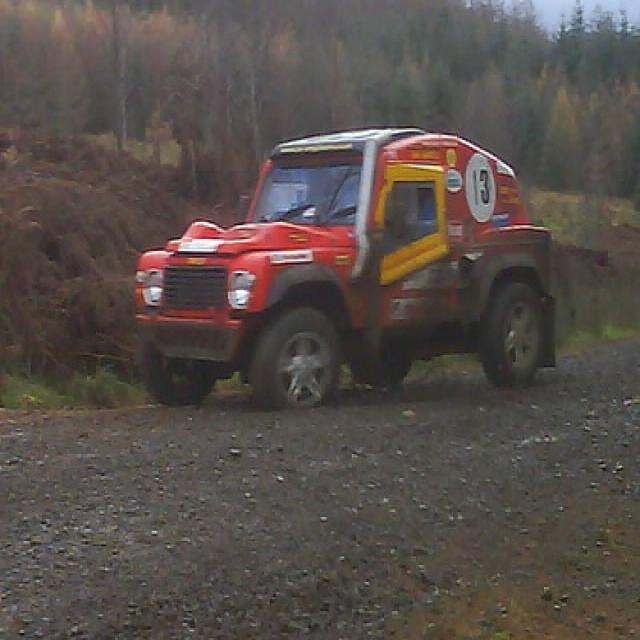car: (132, 125, 557, 406)
